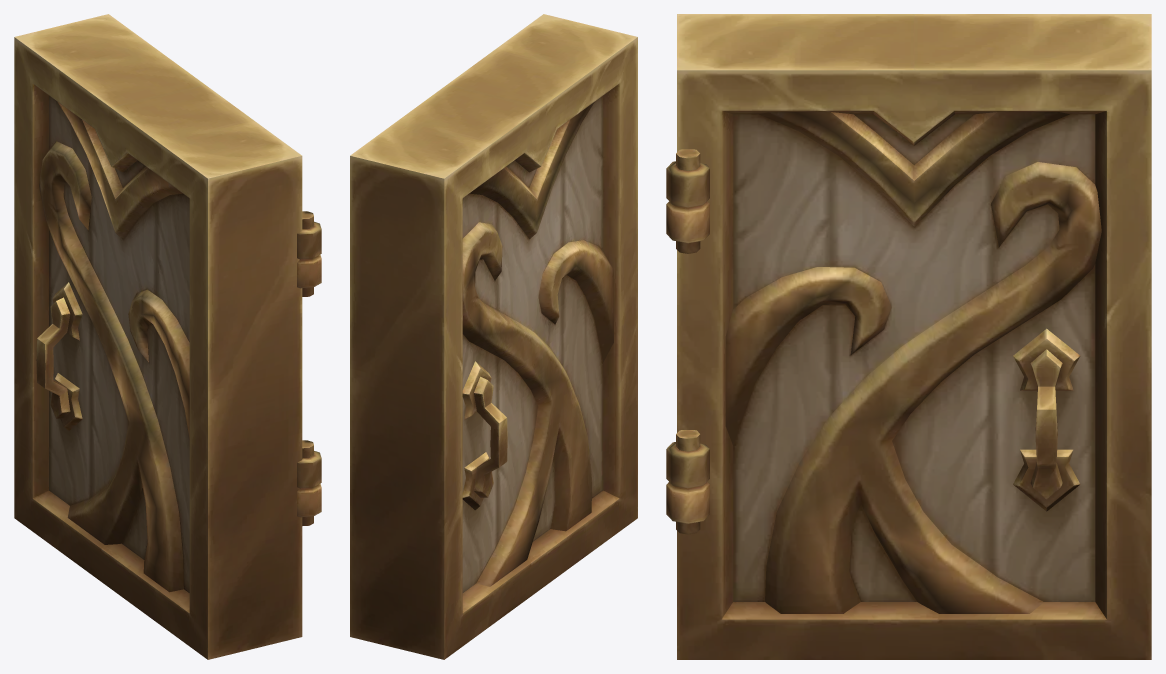
3 renders of one model, left to right at view 1: azimuth 30°, elevation 25°; view 2: azimuth 150°, elevation 25°; view 3: azimuth 270°, elevation 25°, orthographic. The views are drawn at different scales.
Bounding box in the file's own units: 1.12 × 3.88 × 2.89.
Materials: 1 (1 with a texture image).
